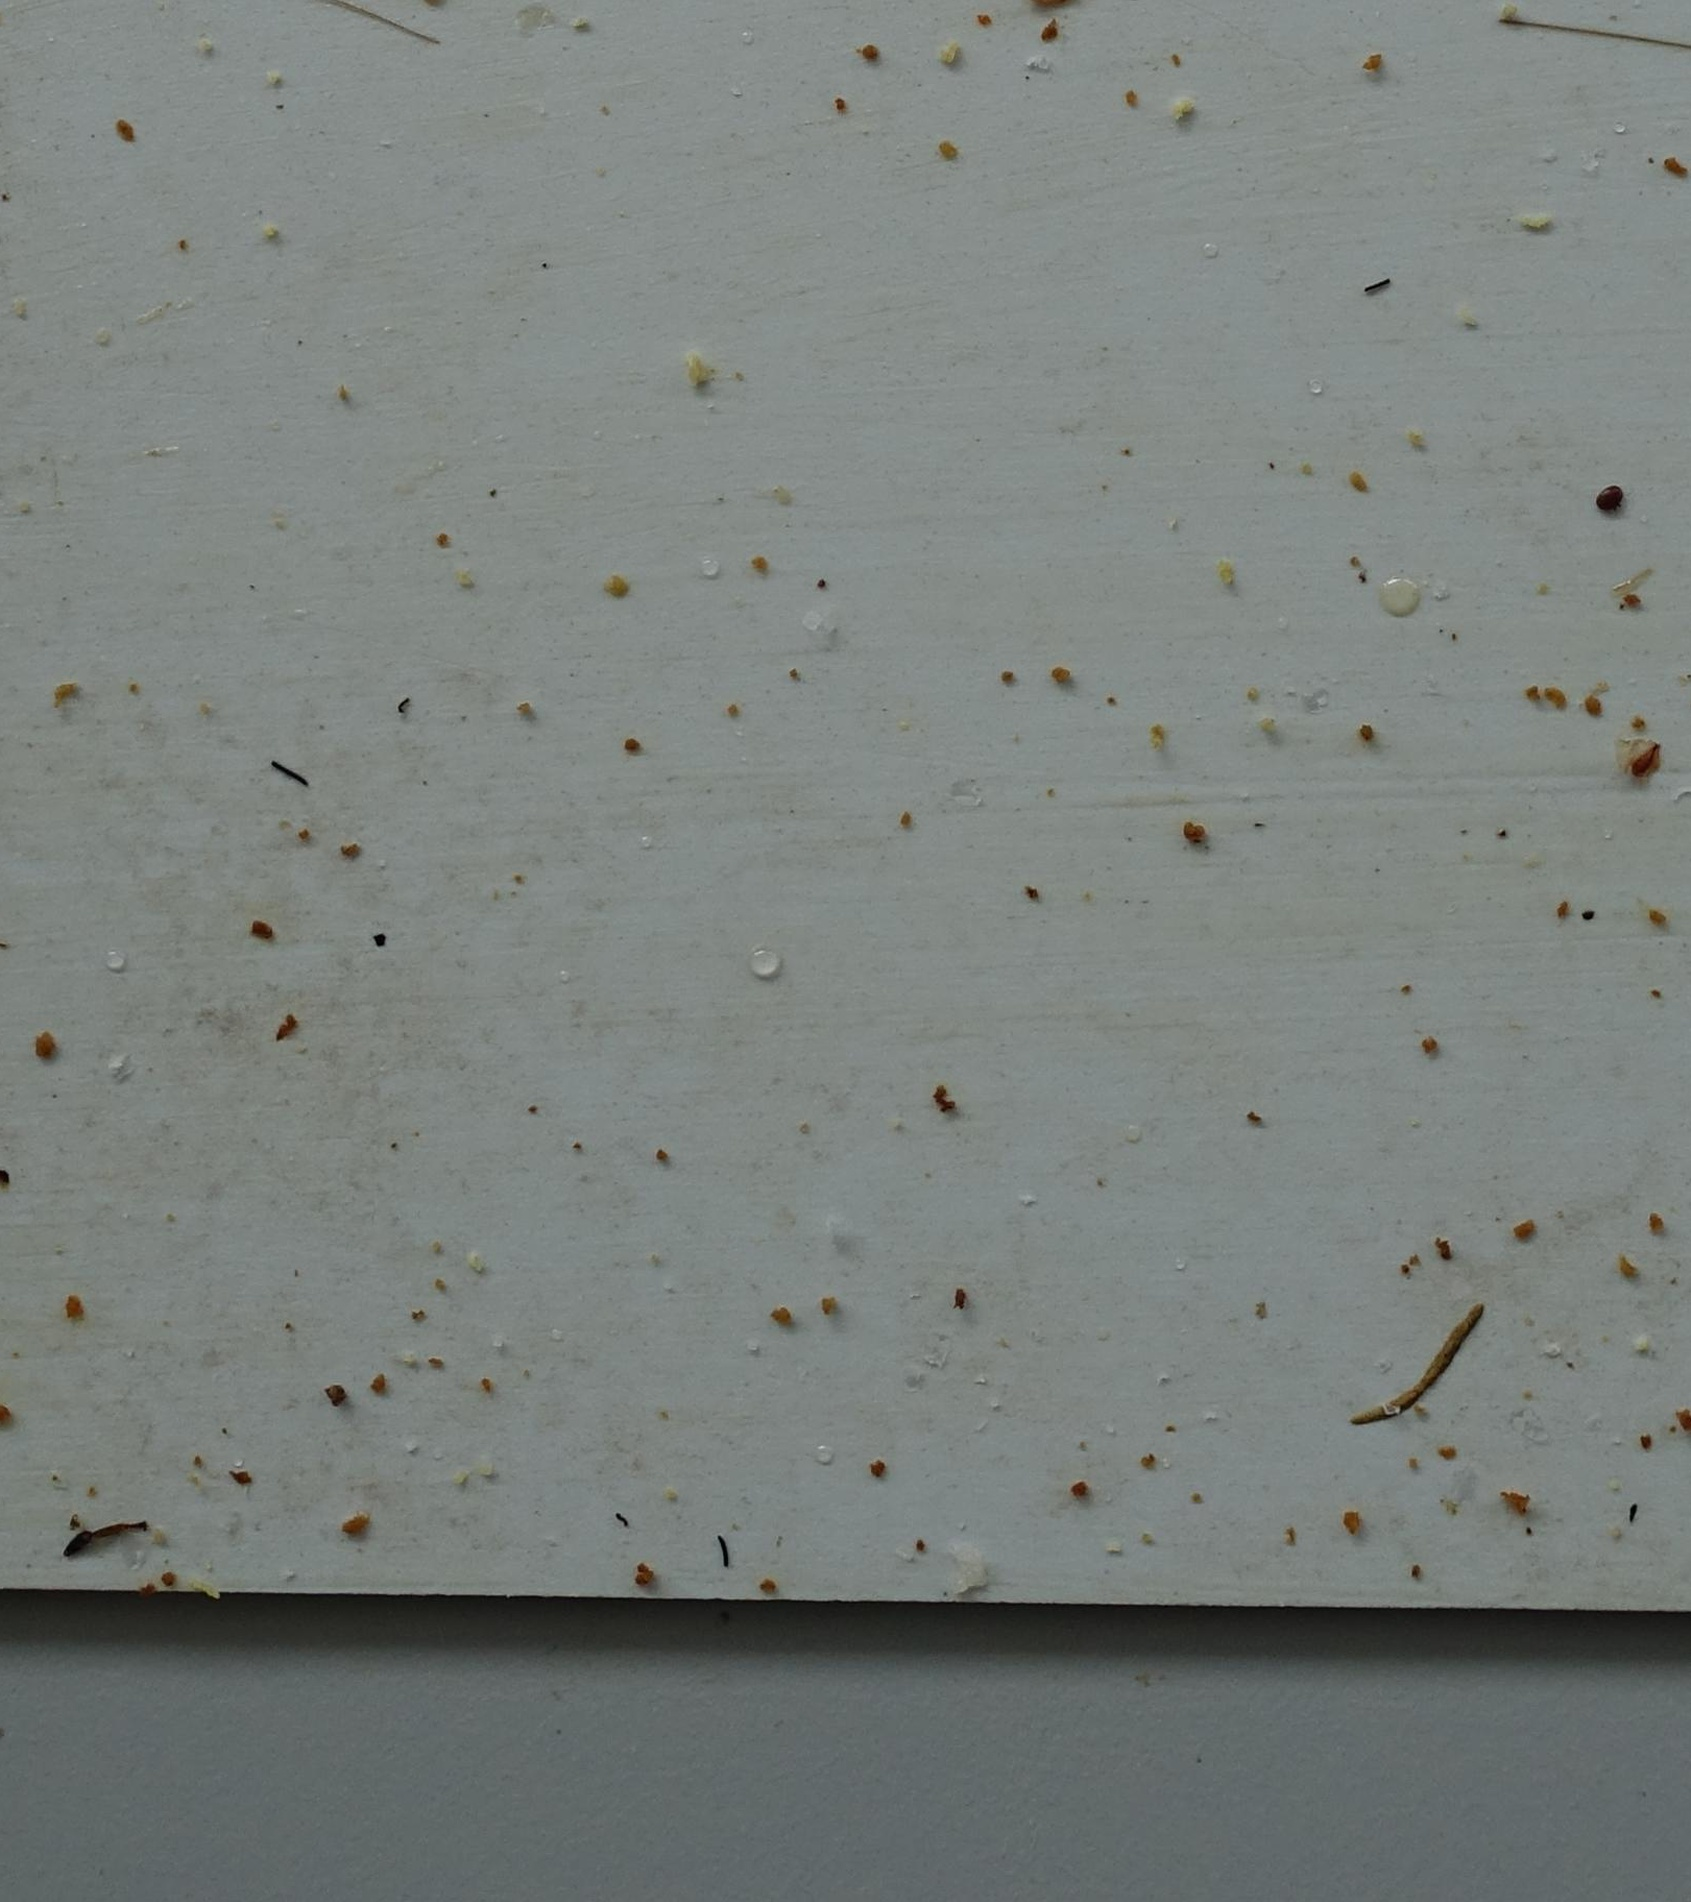Varroa: (1598, 485, 1621, 508)
